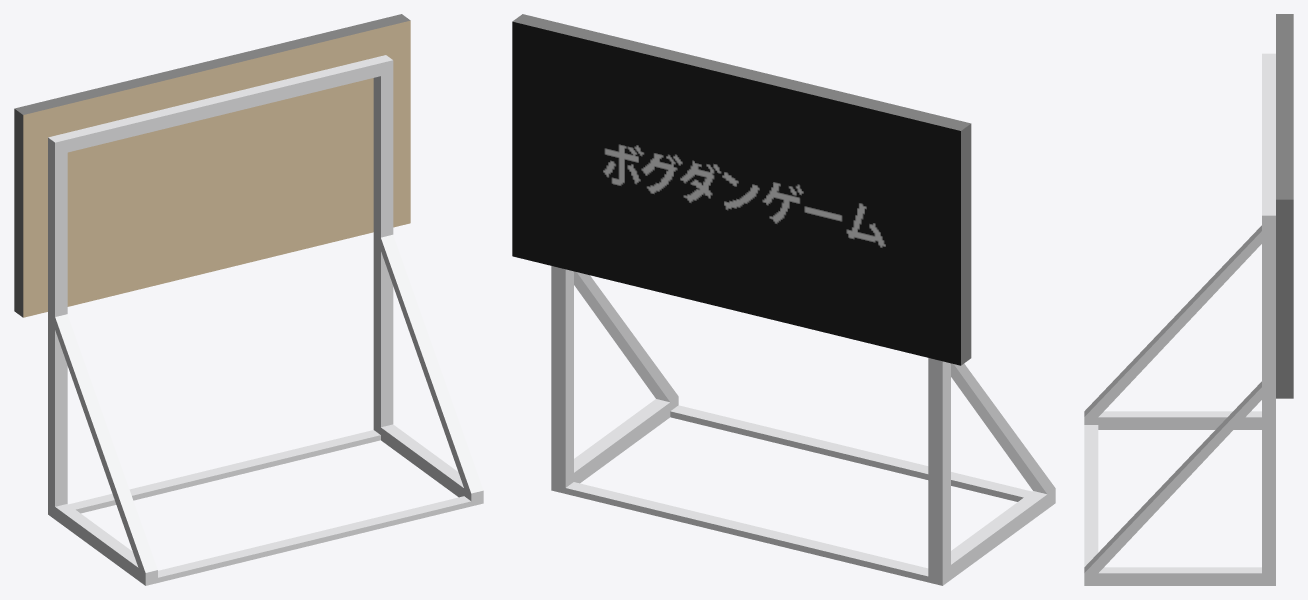
File: Bilboard2.fbx
3 renders of one model, left to right at view 1: azimuth 30°, elevation 25°; view 2: azimuth 150°, elevation 25°; view 3: azimuth 270°, elevation 25°, orthographic. The views are drawn at different scales.
Parts seen in each view (by area): view 1: billboard; view 2: billboard; view 3: billboard.
Part boxes in pixels (x1,y1,x2,y2): billboard: (14, 14, 483, 585); billboard: (512, 14, 1055, 585); billboard: (1084, 14, 1293, 585).
Size of the model in its own units: 1000 by 1000 by 476.
4 materials, 1 textured.
